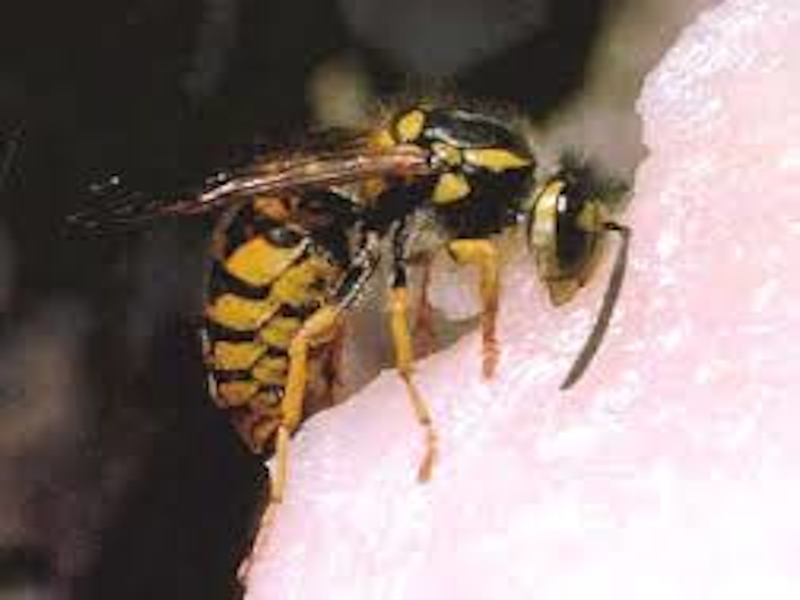chax: (96, 47, 639, 479)
